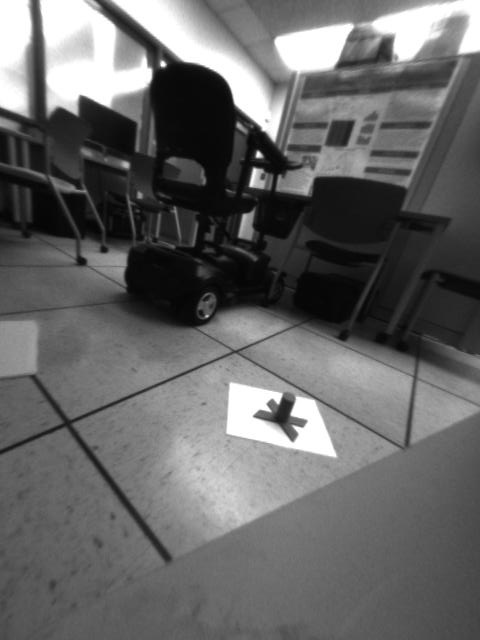X: (255, 389, 309, 441)
